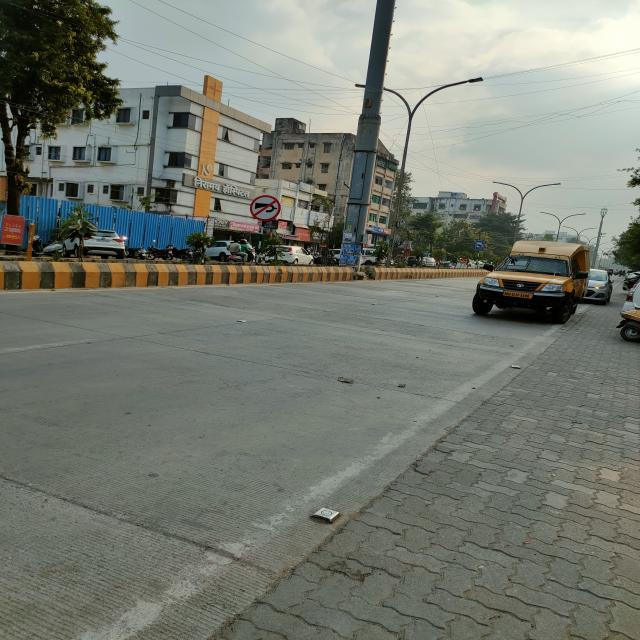horn prohibited: (250, 195, 280, 221)
